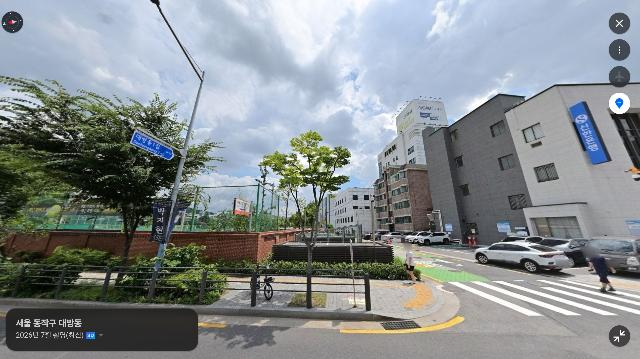other: (0, 75, 228, 269), (258, 130, 352, 297), (255, 150, 299, 231), (313, 193, 339, 232), (286, 194, 305, 230)
